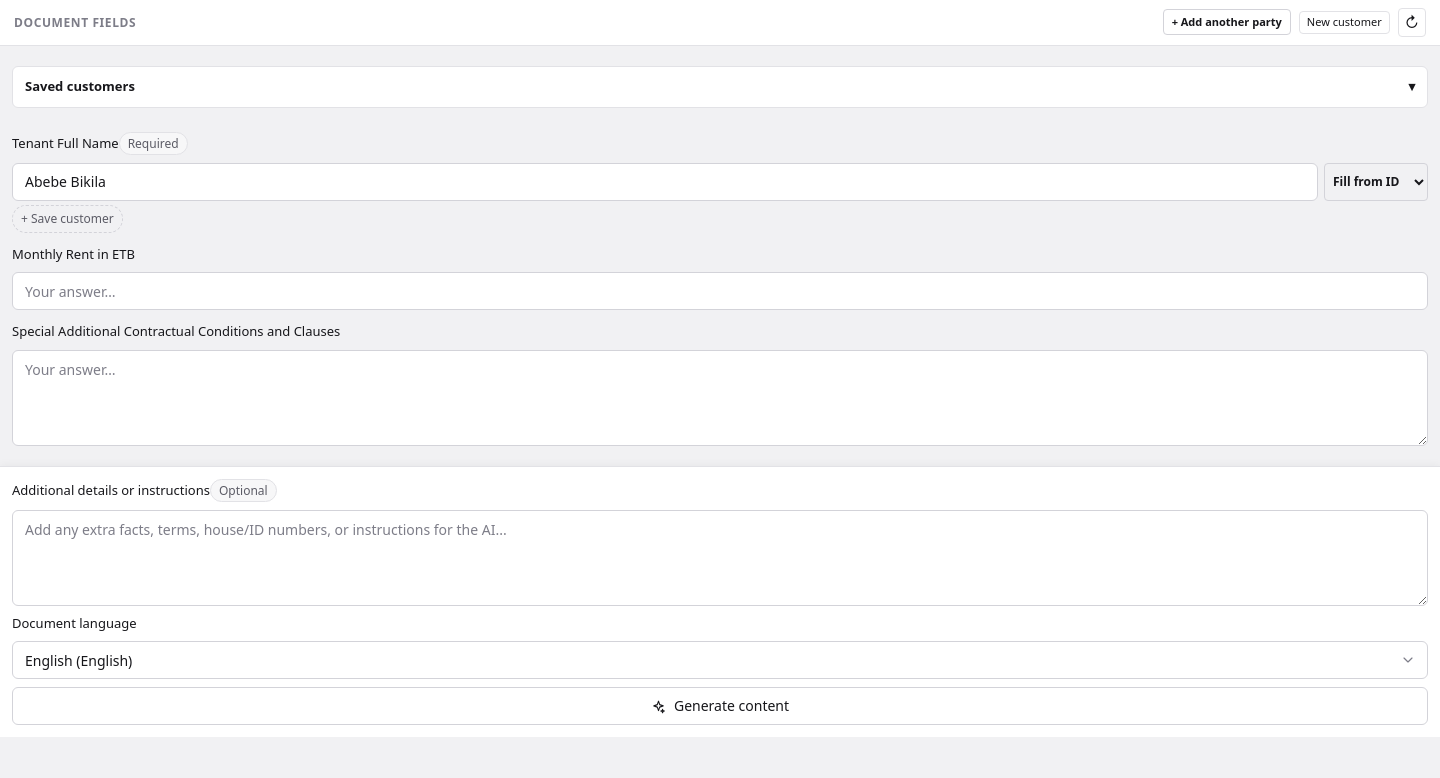
Test case: Inline Telegram ID Mapping & Repeatable Co-Party Slots › supports adding repeatable co-parties and combines their names into answers
Note: Click [+ Add Party] in header
Click the button with test id "header-add-party-btn": (1227, 22) [1163,9,1291,35]
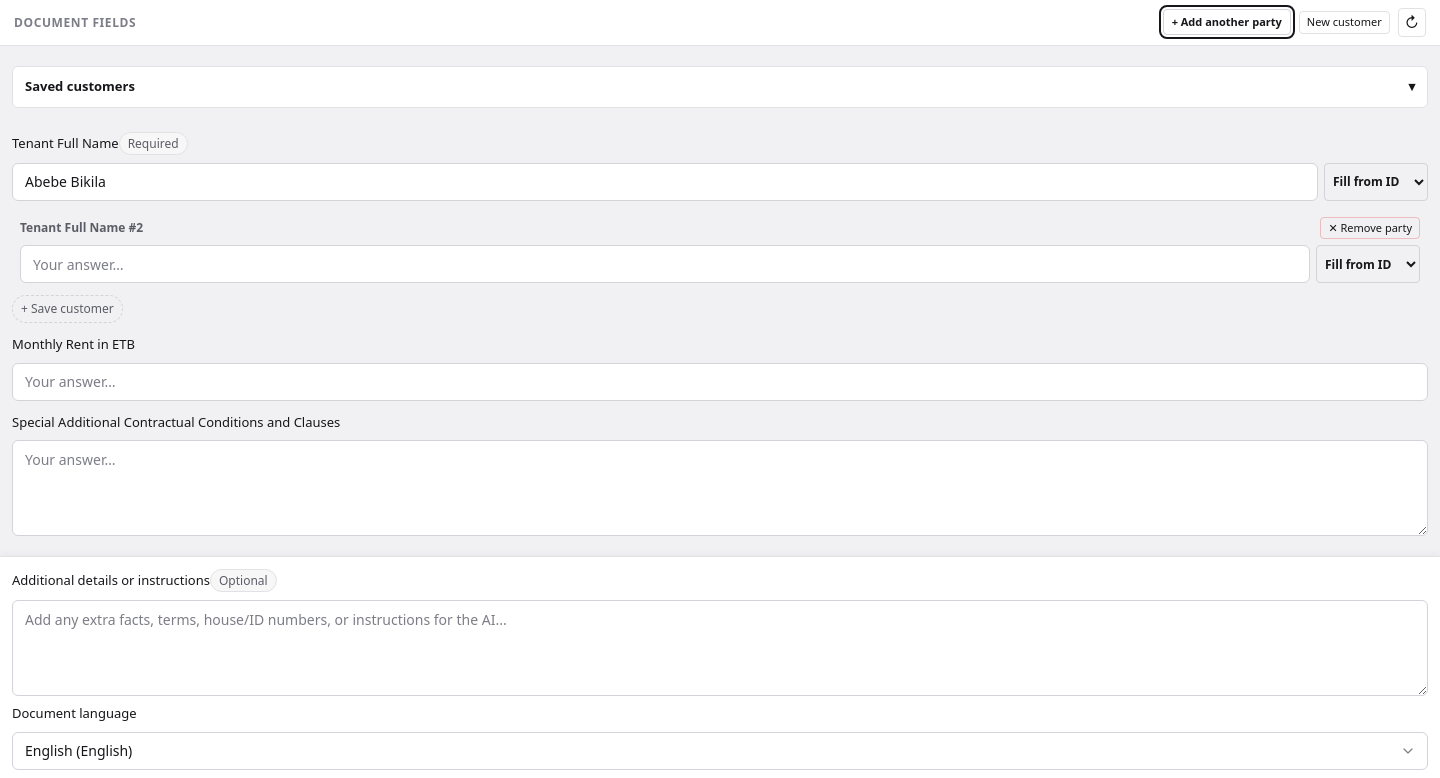
Expected: the text "Tenant Full Name #2" is shown, [20,219,143,237]
Expected: the field with test id "co-party-input-tenant_name-1" is shown
Note: Type in co-party name
In the field with test id "co-party-input-tenant_name-1": (665, 264) [20,245,1310,283], type "Kebede Chala"
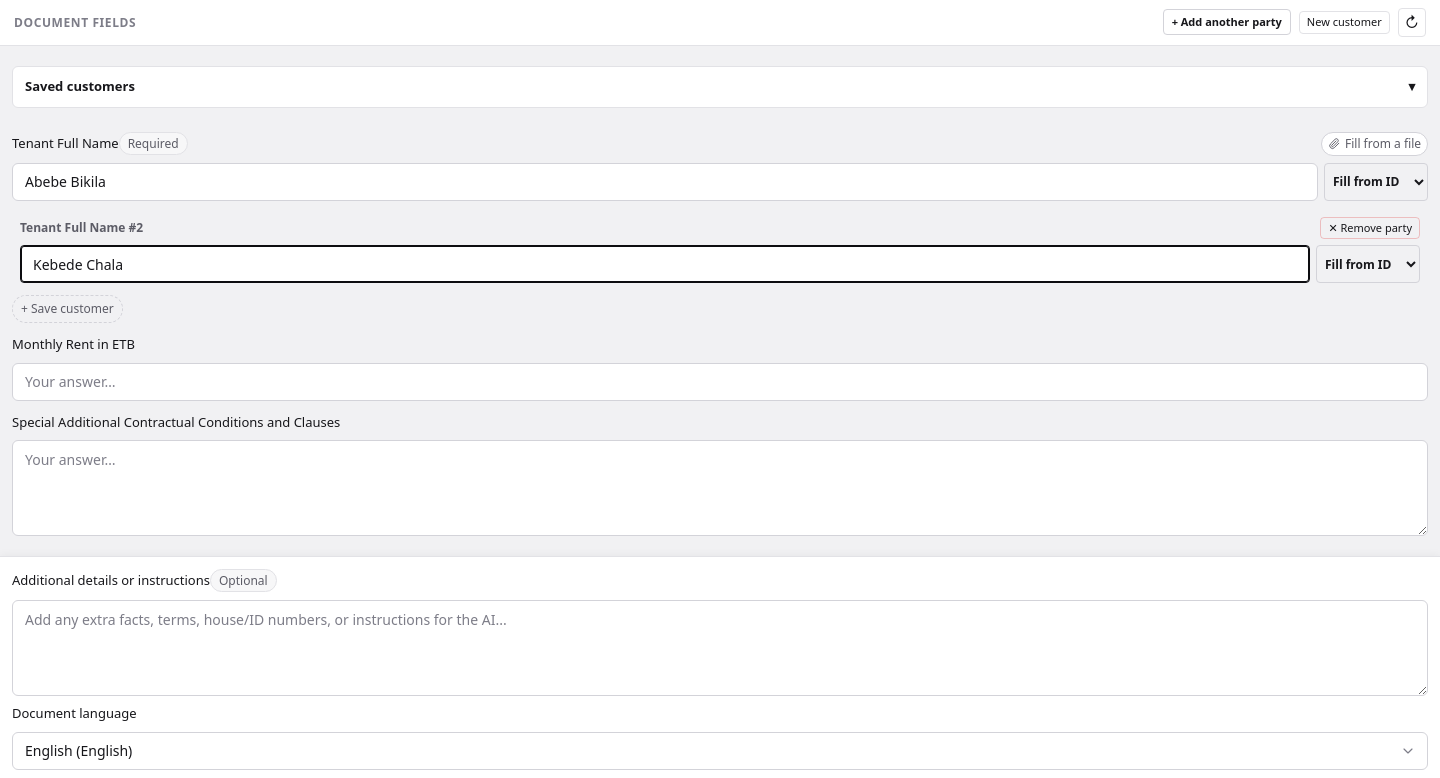
Note: Remove co-party
Click the button with test id "remove-co-party-btn-tenant_name-1": (1370, 228) [1320,217,1420,239]
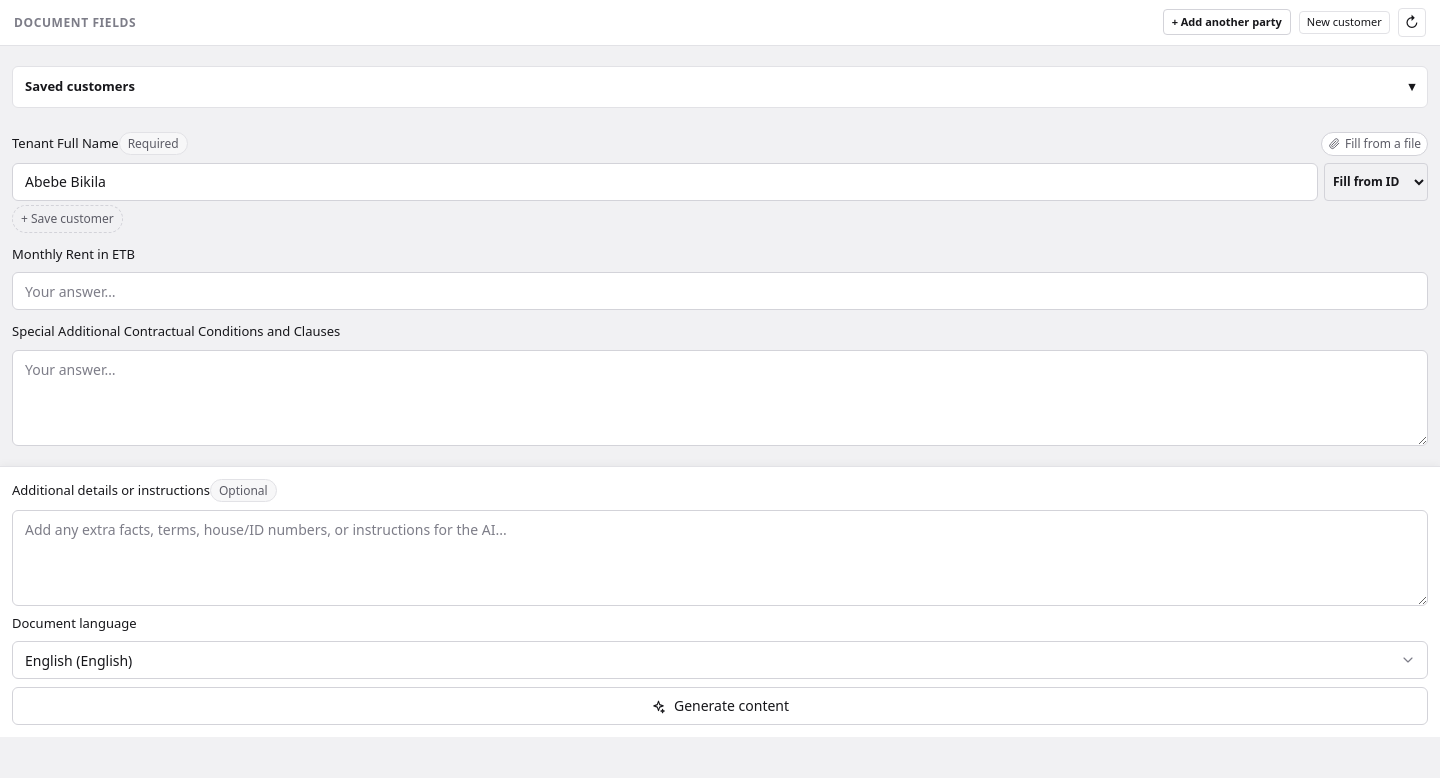
Expected: the label with test id "co-party-input-tenant_name-1" is gone
